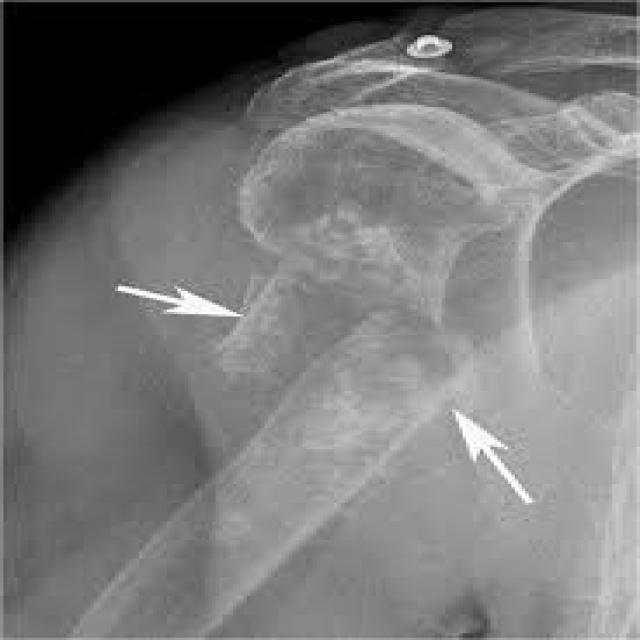pathological: (197, 253, 498, 458)
